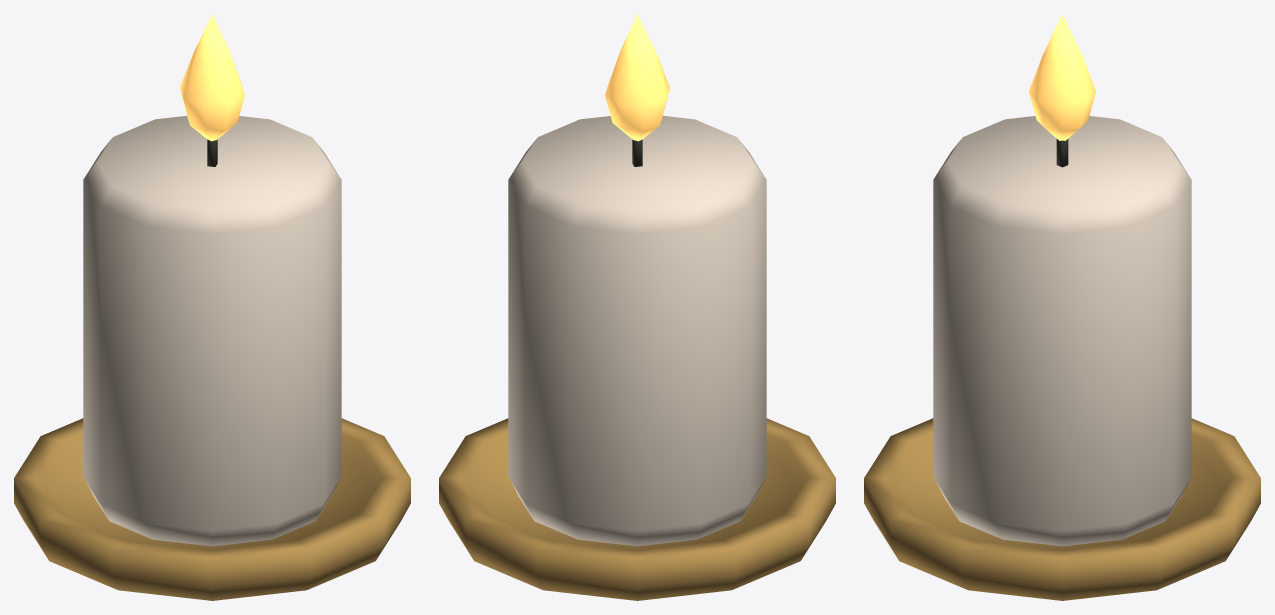
File: candle.glb
The picture shows the model from 3 angles, left to right: view 1: azimuth 30°, elevation 25°; view 2: azimuth 150°, elevation 25°; view 3: azimuth 270°, elevation 25°; orthographic projection.
Parts seen in each view (by area): view 1: candle_wax, candle_saucer, candle_flame; view 2: candle_wax, candle_saucer, candle_flame; view 3: candle_wax, candle_saucer, candle_flame.
Part boxes in pixels (bbox=[...]): candle_wax: bbox=[83, 115, 341, 546]; candle_saucer: bbox=[14, 418, 410, 600]; candle_flame: bbox=[180, 14, 244, 141]; candle_wax: bbox=[508, 115, 766, 546]; candle_saucer: bbox=[439, 418, 835, 600]; candle_flame: bbox=[605, 14, 669, 141]; candle_wax: bbox=[933, 116, 1191, 546]; candle_saucer: bbox=[864, 418, 1260, 600]; candle_flame: bbox=[1028, 14, 1096, 140].
Bounding box in the file's own units: 0.2 × 0.282 × 0.2.
